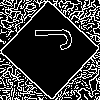J: (25, 25, 72, 52)
